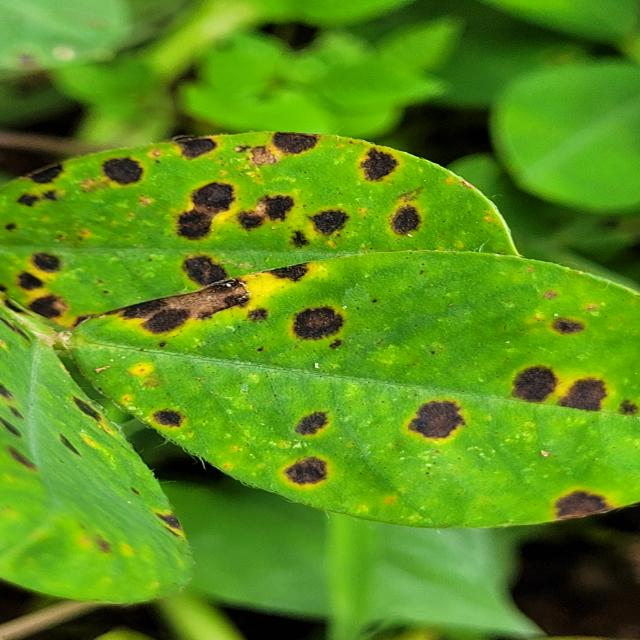Ground nut_tikka leaf spot: (62, 248, 640, 524), (1, 126, 528, 342)
